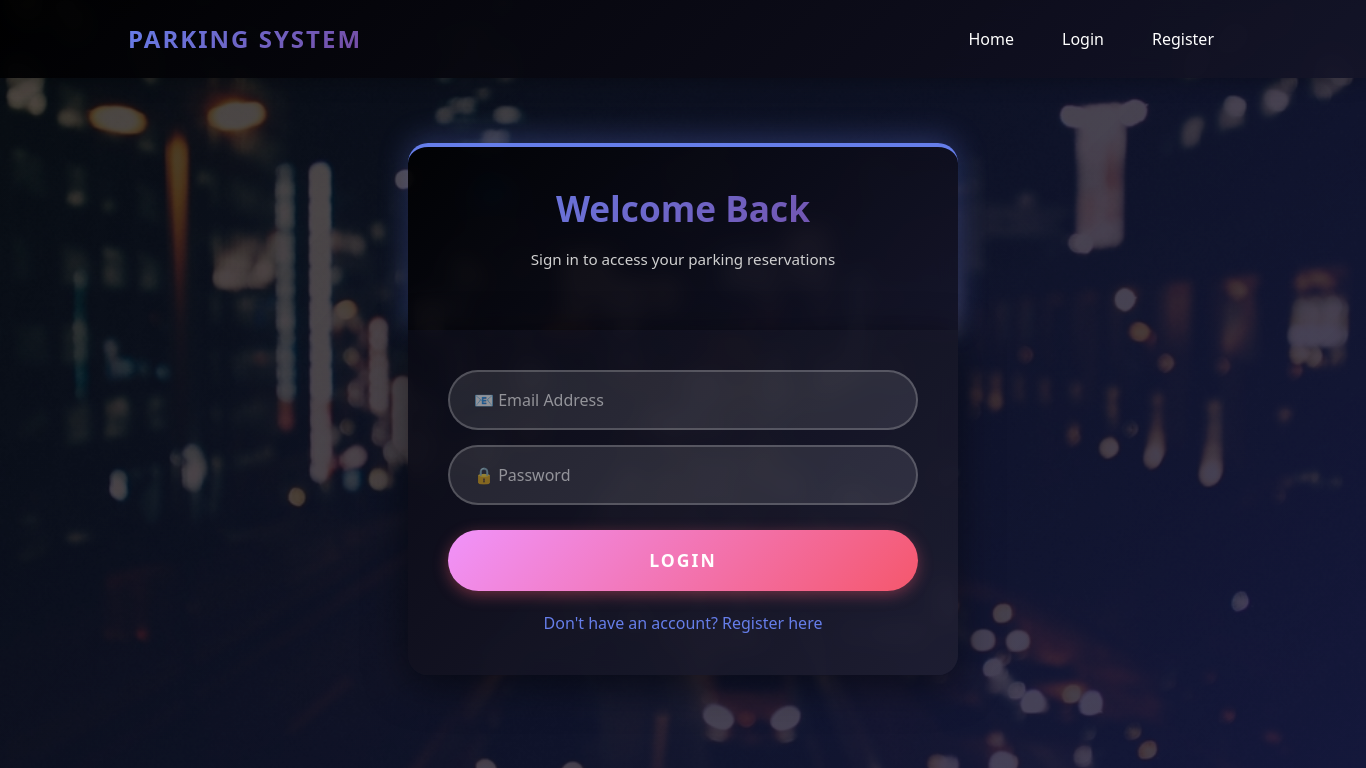
Test: Login › should show error on API failure
In the field with placeholder "📧 Email Address": [683, 400] box [448,370,918,430], type "test@example.com"
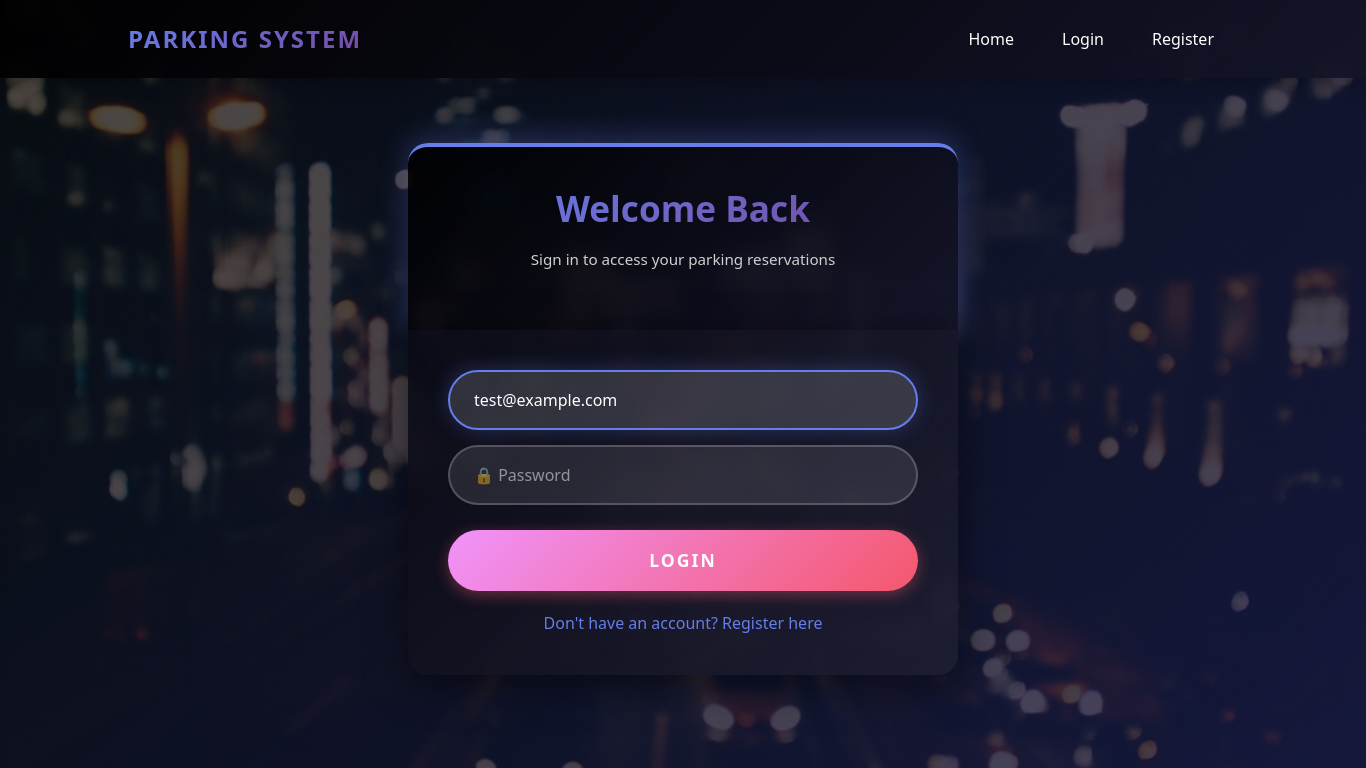
In the password field with placeholder "🔒 Password": [683, 475] box [448,445,918,505], type "Password@123"
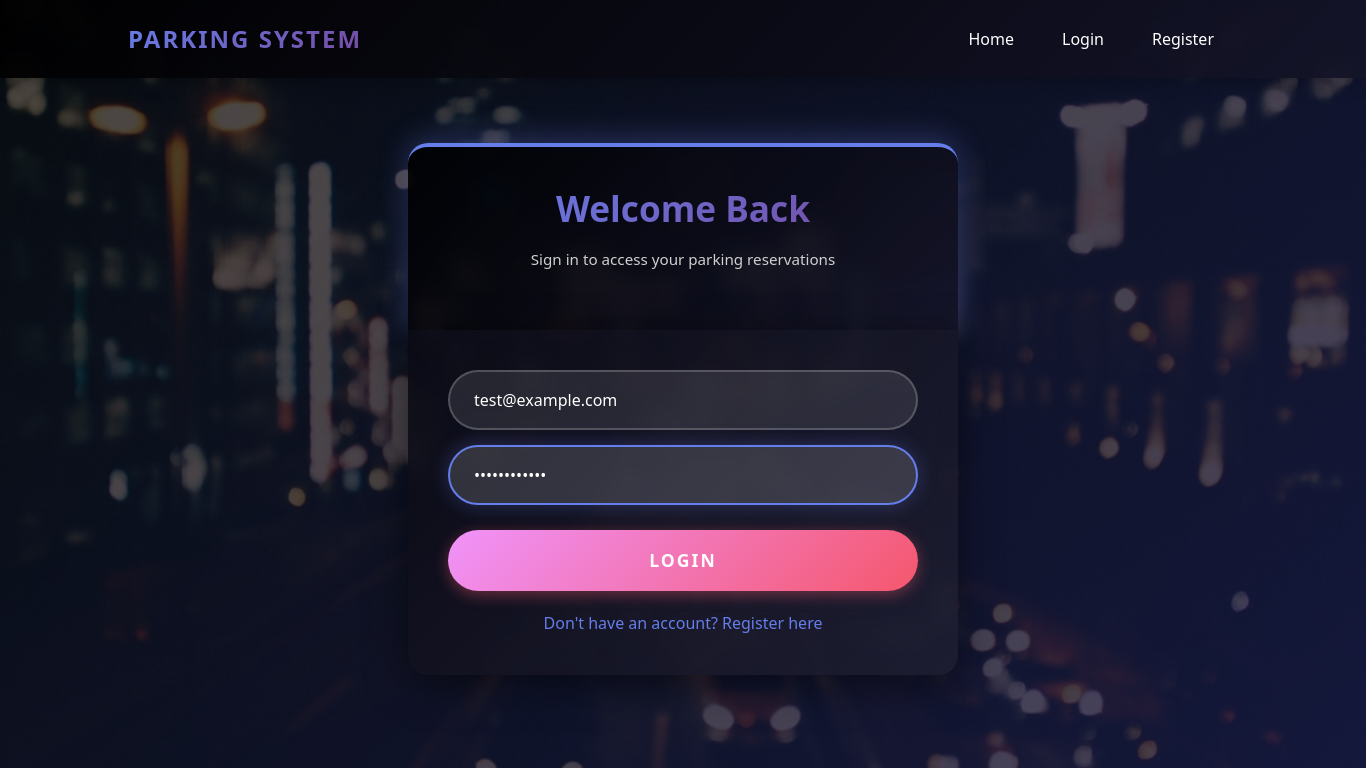
Click the button "LOGIN": [683, 561] box [448,530,918,591]
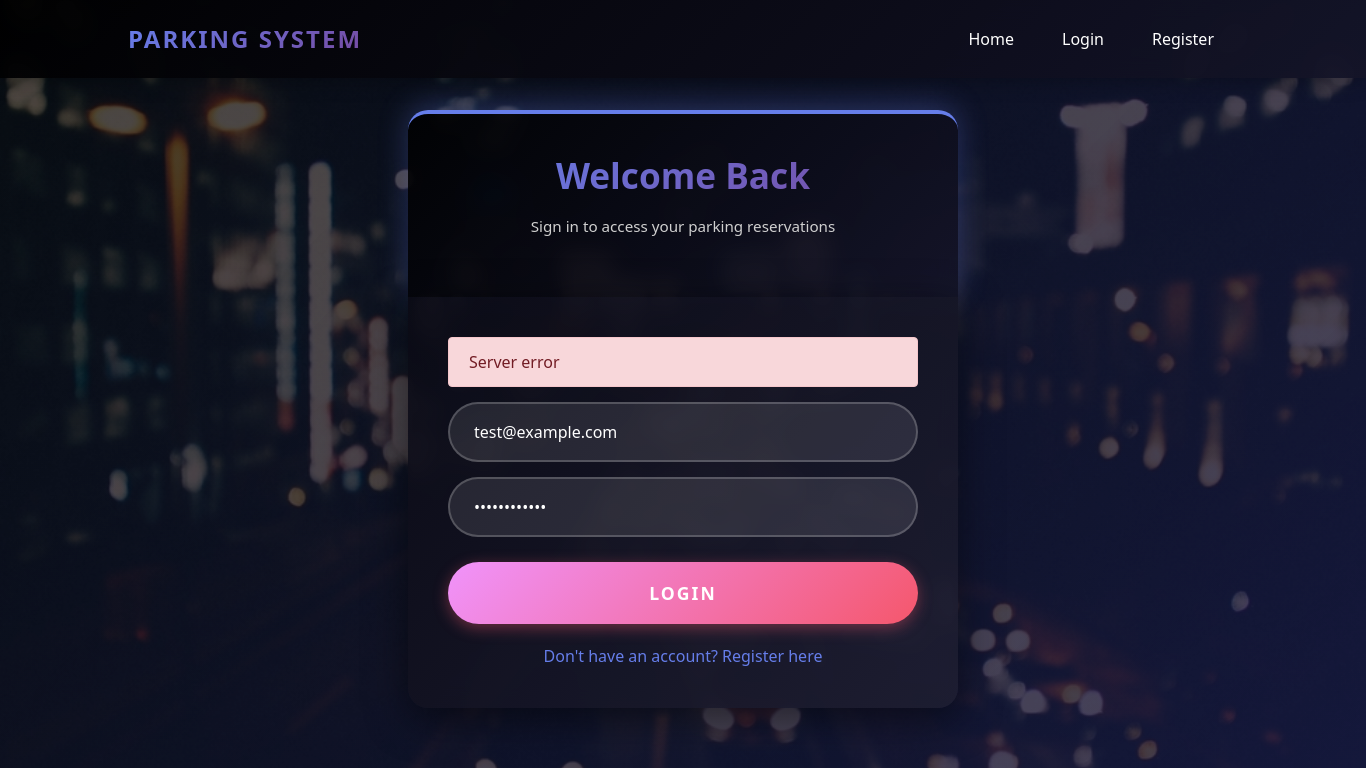
Now the text "Server error" is shown, box [448,337,918,387]
